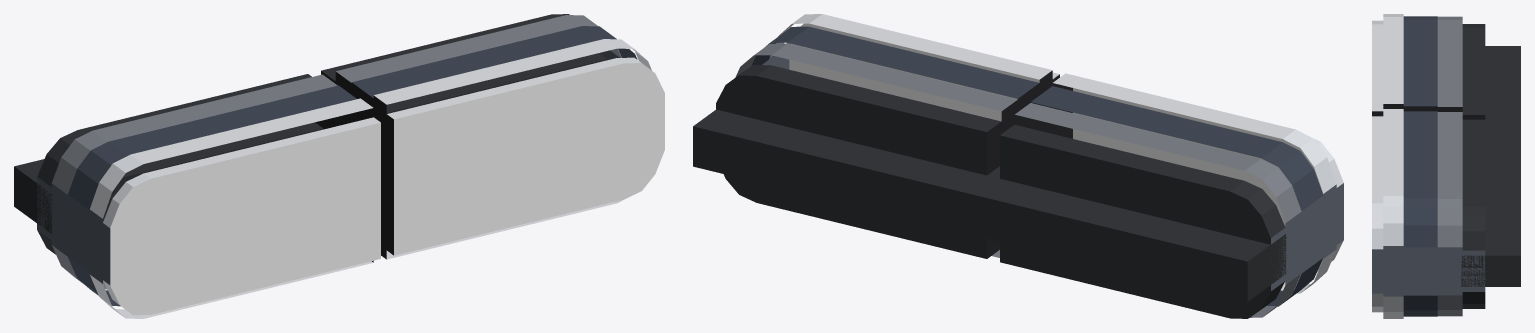
File: mrl.gltf
The picture shows the model from 3 angles, left to right: view 1: azimuth 30°, elevation 25°; view 2: azimuth 150°, elevation 25°; view 3: azimuth 270°, elevation 25°; orthographic projection. The views are drawn at different scales.
Parts seen in each view (by area): view 1: mrl; view 2: mrl; view 3: mrl.
Boxes of the visible parts, x1,y1,x2,y2 form: mrl: (14, 14, 664, 318); mrl: (693, 14, 1343, 318); mrl: (1372, 14, 1520, 318).
Size of the model in its own units: 12 by 3.2 by 3.6.
Materials: 1 (1 with a texture image).
